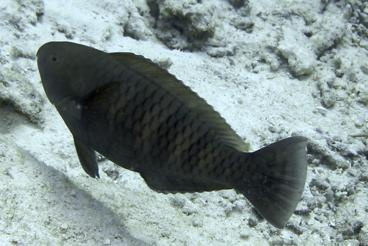Scaridae -Parrotfishes-: (33, 36, 310, 232)
